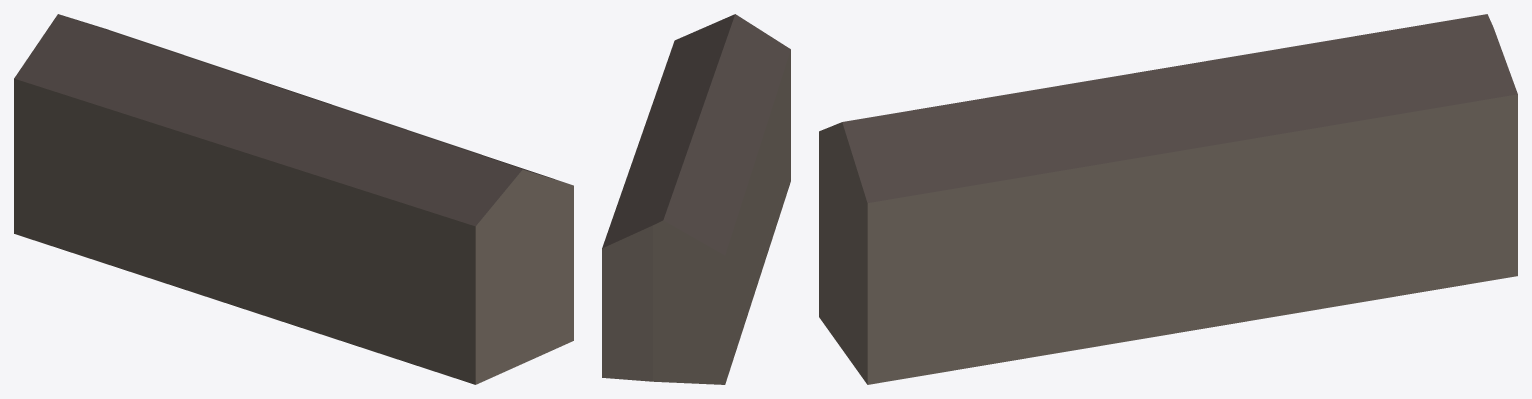
3 views of the same model, side by side, from view 1: azimuth 30°, elevation 25°; view 2: azimuth 150°, elevation 25°; view 3: azimuth 270°, elevation 25° (orthographic). The views are drawn at different scales.
Parts seen in each view (by area): view 1: HP-w1516733018; view 2: HP-w1516733018; view 3: HP-w1516733018.
Part boxes in pixels (x1,y1,x2,y2): HP-w1516733018: (14, 14, 573, 384); HP-w1516733018: (602, 14, 790, 384); HP-w1516733018: (819, 14, 1517, 384).
Bounding box in the file's own units: 12.55 × 7.51 × 20.91.
